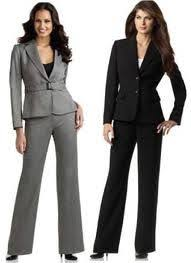F_W_pants: (1, 116, 88, 254), (90, 127, 166, 252)
F_W_suit jacket: (103, 37, 187, 126), (1, 39, 86, 121)
